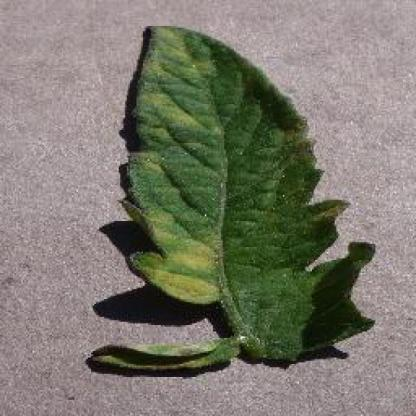Tomato_Leaf_Mold: (129, 23, 376, 356)
